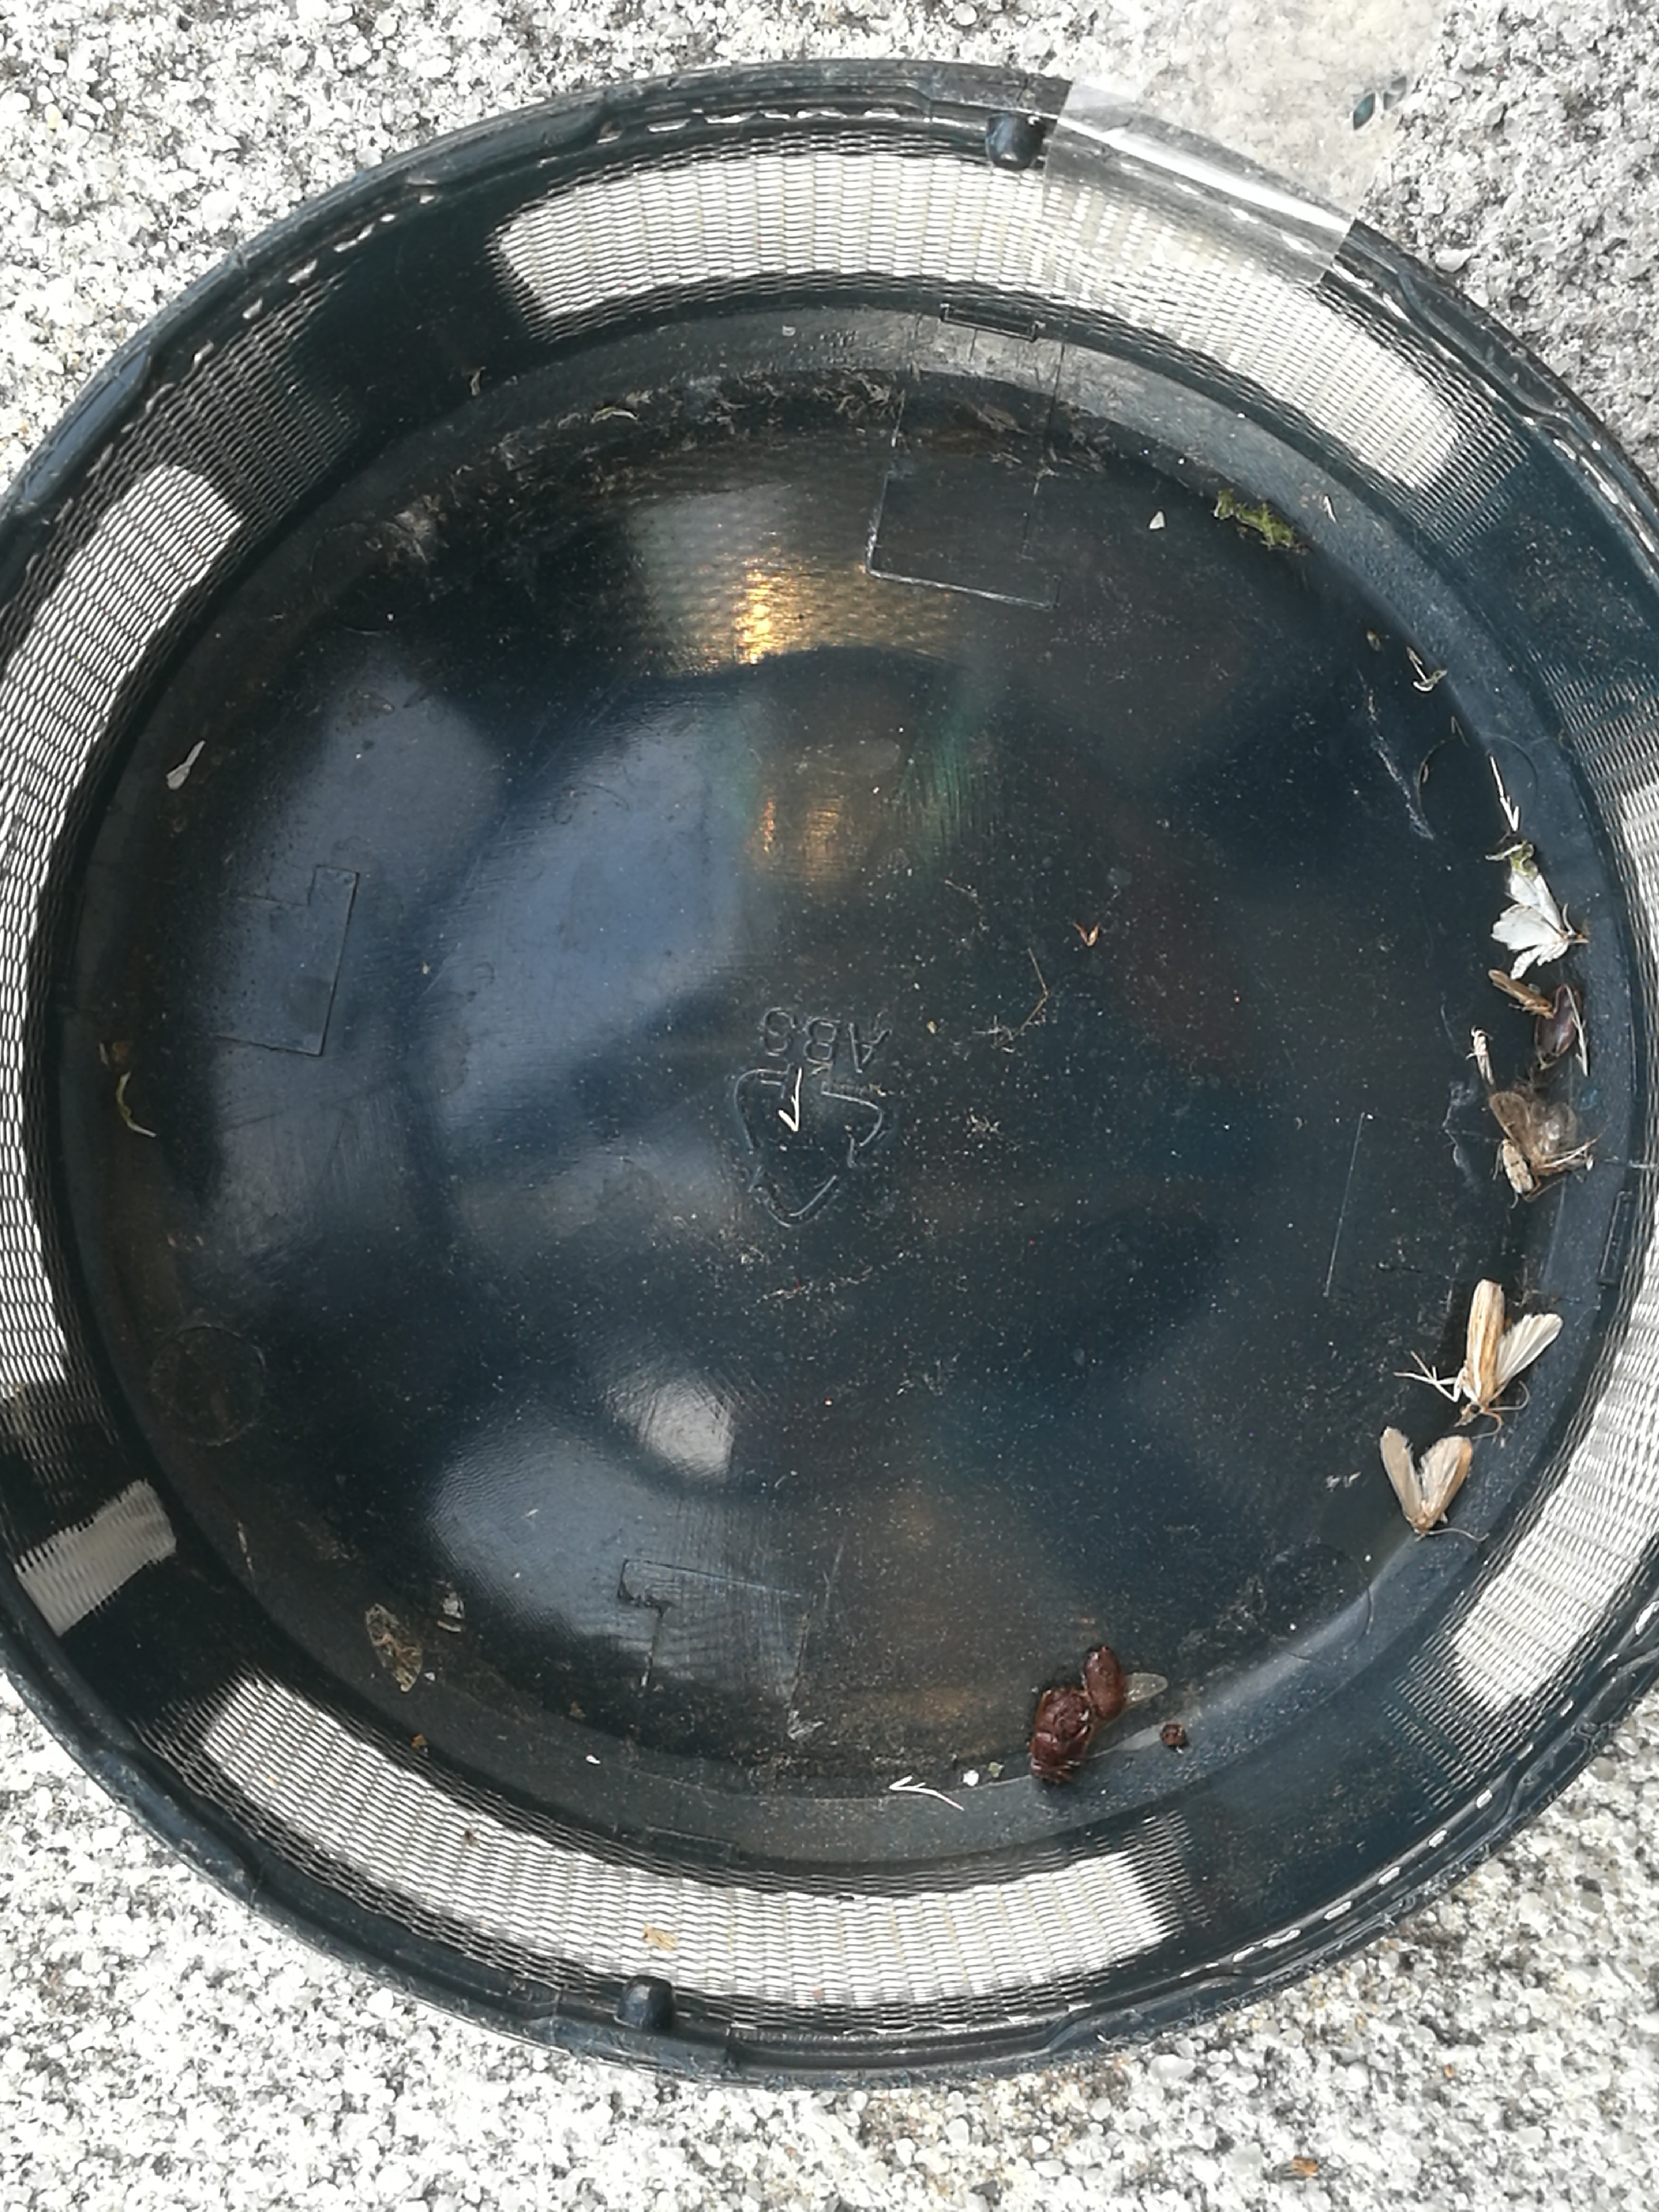mosquito: (1490, 968, 1554, 1015), (1500, 1139, 1534, 1195)
moth: (1466, 1280, 1563, 1413), (1382, 1428, 1473, 1533), (1492, 864, 1565, 975), (1492, 1094, 1582, 1170)
